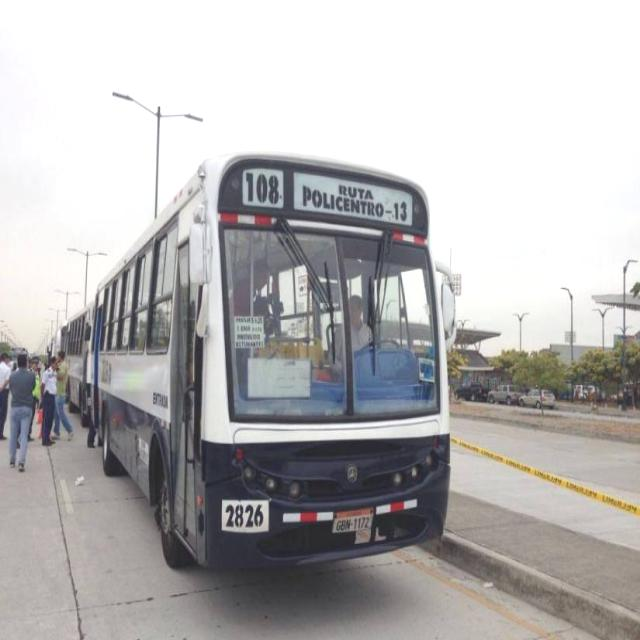BUS: (89, 151, 457, 584)
